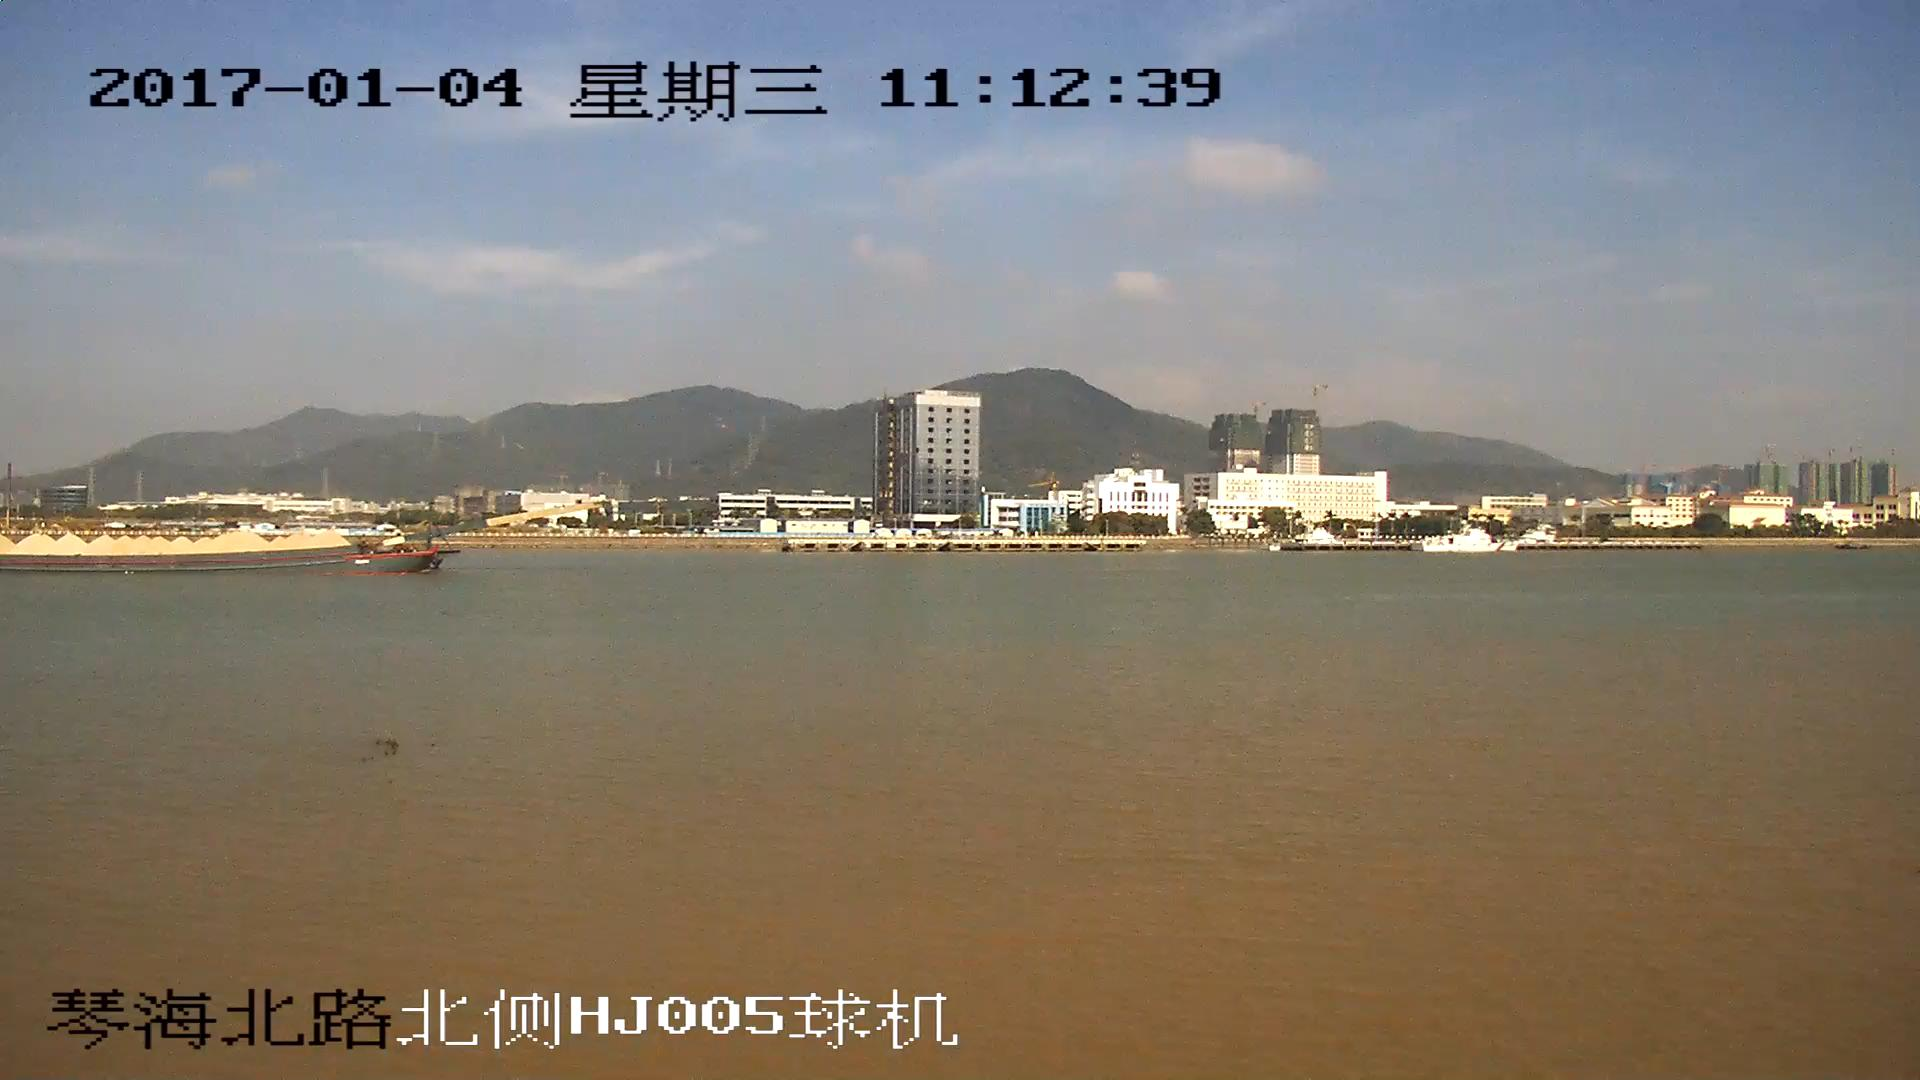ore carrier: (1, 505, 585, 581)
